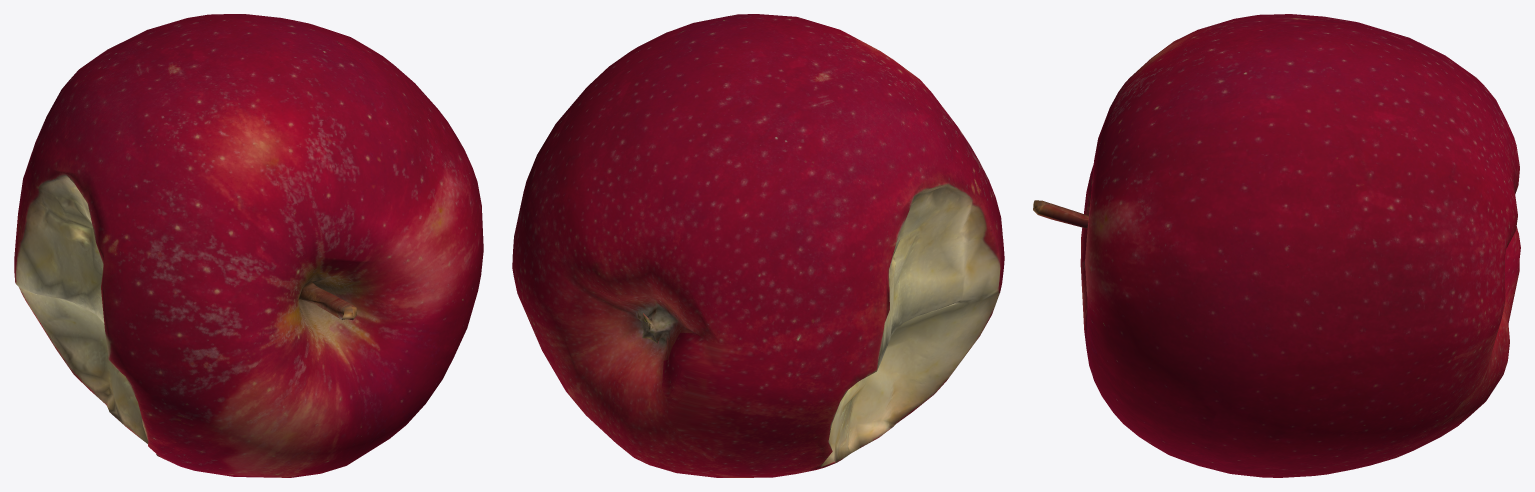
File: apple_mid.obj
3 views of the same model, side by side, from view 1: azimuth 30°, elevation 25°; view 2: azimuth 150°, elevation 25°; view 3: azimuth 270°, elevation 25° (orthographic).
Visible parts, largest first — view 1: tgzpdhlpa_LOD0_TIER2_000; view 2: tgzpdhlpa_LOD0_TIER2_000; view 3: tgzpdhlpa_LOD0_TIER2_000.
Boxes of the visible parts, x1,y1,x2,y2 form: tgzpdhlpa_LOD0_TIER2_000: (14, 14, 483, 477); tgzpdhlpa_LOD0_TIER2_000: (512, 14, 1004, 477); tgzpdhlpa_LOD0_TIER2_000: (1033, 14, 1520, 477).
Size of the model in its own units: 0.7563 by 0.7644 by 0.8.
1 material, 1 textured.
